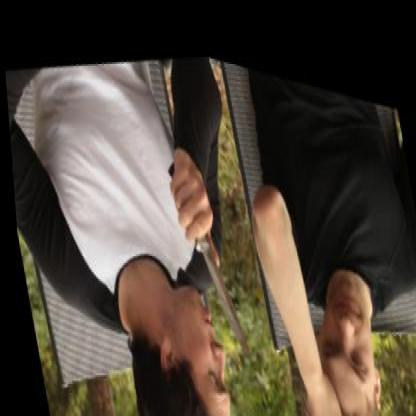knife: (163, 151, 255, 381)
